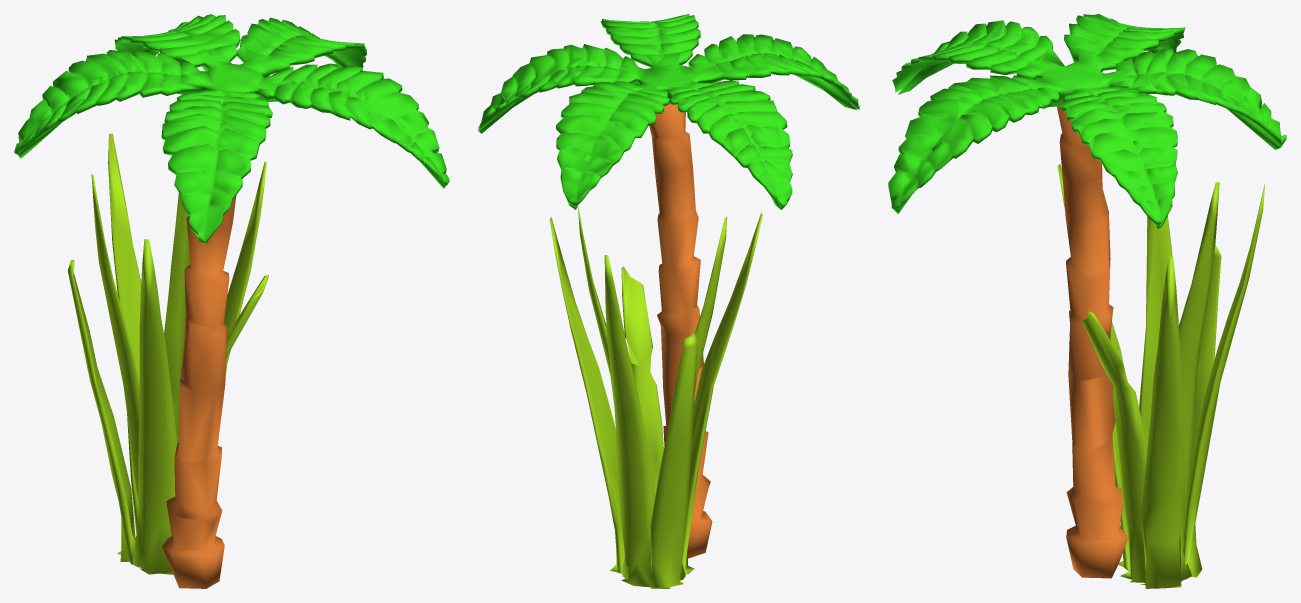
The model's file is ticalla-palm-colored-lowpoly.glb.
3 views of the same model, side by side, from view 1: azimuth 30°, elevation 25°; view 2: azimuth 150°, elevation 25°; view 3: azimuth 270°, elevation 25° (orthographic). The views are drawn at different scales.
Visible parts, largest first — view 1: AlienGrassUFO_v01_Tuft_a; view 2: AlienGrassUFO_v01_Tuft_a; view 3: AlienGrassUFO_v01_Tuft_a.
Boxes of the visible parts, x1,y1,x2,y2 form: AlienGrassUFO_v01_Tuft_a: [14, 14, 449, 588]; AlienGrassUFO_v01_Tuft_a: [478, 14, 859, 588]; AlienGrassUFO_v01_Tuft_a: [888, 14, 1286, 588].
Bounding box in the file's own units: 2.64 × 3.81 × 2.67.
